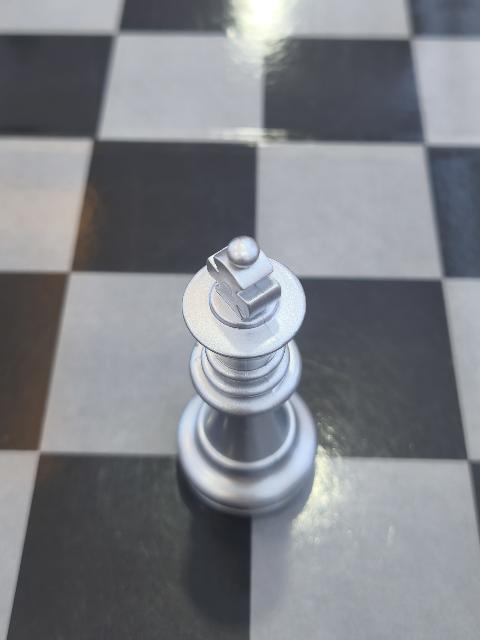white_king: (177, 235, 319, 517)
